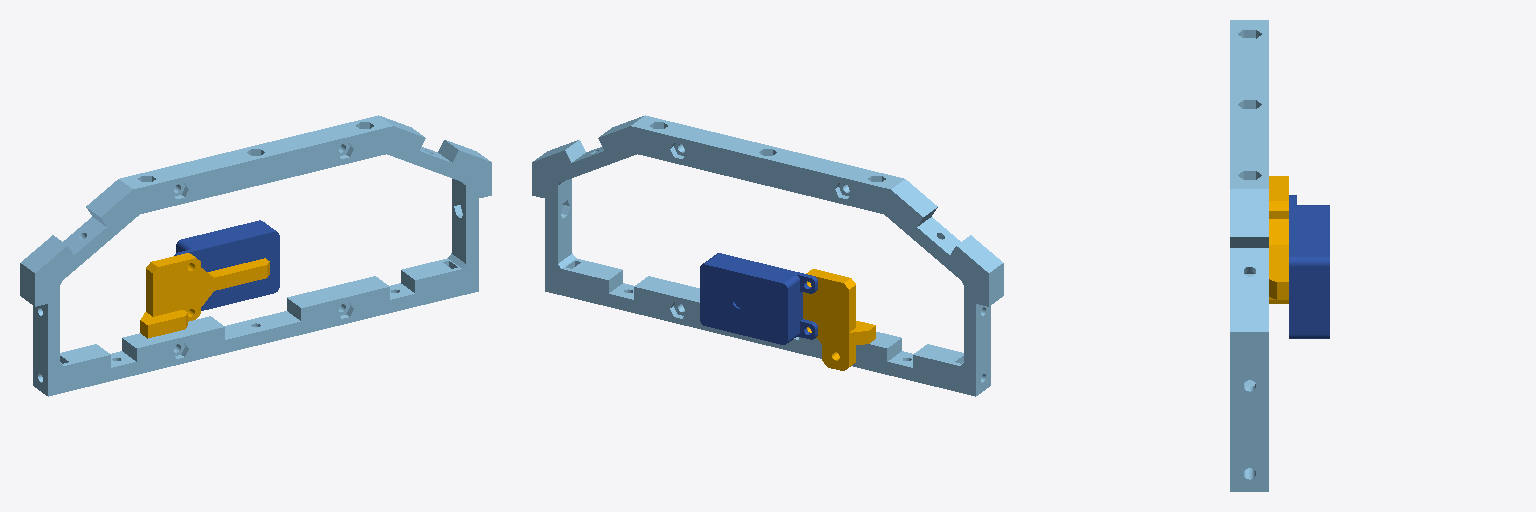
The robot description file, URDF, robot "simplebot2":
<?xml version="1.0" ?>
<!-- Generated using onshape-to-robot -->
<!-- Onshape https://cad.onshape.com/documents/58d69eaf54d5097cb2ee2932/w/94ca09f7b1264f3339bd84c4/e/c562299726437d1b04c86cff -->
<robot name="simplebot2">
  <!-- Link frame4 -->
  <link name="frame4">
    <inertial>
      <origin xyz="-3.43853e-10 -0.0243167 0.0253545" rpy="0 0 0"/>
      <mass value="1.22548"/>
      <inertia ixx="0.00516387" ixy="-9.47574e-11" ixz="-1.56623e-11" iyy="0.00308896" iyz="-0.000170816" izz="0.00729188"/>
    </inertial>
    <!-- Part a010 -->
    <visual>
      <origin xyz="3.46945e-17 -0.085 -0.005" rpy="0 -0 0"/>
      <geometry>
        <mesh filename="package://assets/a010.stl"/>
      </geometry>
      <material name="a010_material">
        <color rgba="0.231373 0.380392 0.705882 1"/>
      </material>
    </visual>
    <collision>
      <origin xyz="3.46945e-17 -0.085 -0.005" rpy="0 -0 0"/>
      <geometry>
        <mesh filename="package://assets/a010.stl"/>
      </geometry>
    </collision>
    <!-- Part rplidar_c1 -->
    <visual>
      <origin xyz="0 -0.045 -0.005" rpy="0 -0 0"/>
      <geometry>
        <mesh filename="package://assets/rplidar_c1.stl"/>
      </geometry>
      <material name="rplidar_c1_material">
        <color rgba="0.647059 0.647059 0.647059 1"/>
      </material>
    </visual>
    <collision>
      <origin xyz="0 -0.045 -0.005" rpy="0 -0 0"/>
      <geometry>
        <mesh filename="package://assets/rplidar_c1.stl"/>
      </geometry>
    </collision>
    <!-- Part frame4 -->
    <visual>
      <origin xyz="7.02021e-18 -0.085 -0.005" rpy="0 -2.31296e-16 0"/>
      <geometry>
        <mesh filename="package://assets/frame4.stl"/>
      </geometry>
      <material name="frame4_material">
        <color rgba="0.615686 0.811765 0.929412 1"/>
      </material>
    </visual>
    <collision>
      <origin xyz="7.02021e-18 -0.085 -0.005" rpy="0 -2.31296e-16 0"/>
      <geometry>
        <mesh filename="package://assets/frame4.stl"/>
      </geometry>
    </collision>
    <!-- Part top_parts_bracket -->
    <visual>
      <origin xyz="2.08167e-17 -0.045 -0.005" rpy="0 -0 0"/>
      <geometry>
        <mesh filename="package://assets/top_parts_bracket.stl"/>
      </geometry>
      <material name="top_parts_bracket_material">
        <color rgba="0.917647 0.917647 0.917647 1"/>
      </material>
    </visual>
    <collision>
      <origin xyz="2.08167e-17 -0.045 -0.005" rpy="0 -0 0"/>
      <geometry>
        <mesh filename="package://assets/top_parts_bracket.stl"/>
      </geometry>
    </collision>
    <!-- Part a010_bracket -->
    <visual>
      <origin xyz="3.46945e-17 -0.085 -0.005" rpy="0 -0 0"/>
      <geometry>
        <mesh filename="package://assets/a010_bracket.stl"/>
      </geometry>
      <material name="a010_bracket_material">
        <color rgba="0.980392 0.713725 0.00392157 1"/>
      </material>
    </visual>
    <collision>
      <origin xyz="3.46945e-17 -0.085 -0.005" rpy="0 -0 0"/>
      <geometry>
        <mesh filename="package://assets/a010_bracket.stl"/>
      </geometry>
    </collision>
  </link>
</robot>

--- Render facts (derived) ---
3 views of the same robot in one strip: view 1: azimuth 30°, elevation 25°; view 2: azimuth 150°, elevation 25°; view 3: azimuth 270°, elevation 25° (orthographic).
Model simplebot2 with 1 links and 0 joints (none), rooted at frame4, posed every joint at zero.
Links seen in each view (by area): view 1: frame4; view 2: frame4; view 3: frame4.
Boxes of the visible links, x1=… form: frame4: x1=20, y1=115, x2=491, y2=396; frame4: x1=532, y1=115, x2=1003, y2=396; frame4: x1=1230, y1=20, x2=1329, y2=491.
Size in the robot's own frame: 0.18 by 0.0255 by 0.0702 metres.
Meshes: 5 distinct files referenced, 3 mesh visuals loaded (3 binary STL); not drawn: 2 (reference not matched to a file when rendering).